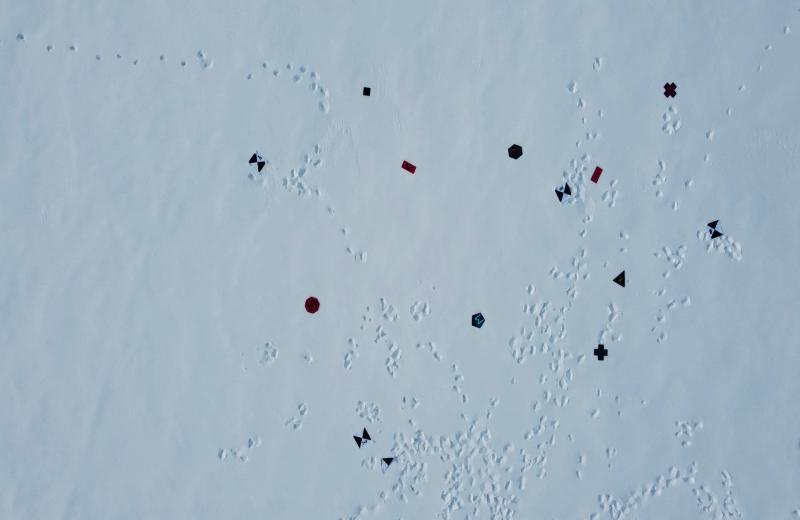Cross: (662, 81, 678, 98), (594, 343, 608, 362)
Hexagon: (508, 142, 524, 161)
Octagon: (304, 296, 321, 316)
Pentagon: (470, 311, 486, 329)
Rectangle: (590, 166, 605, 185), (400, 158, 416, 174)
Square: (362, 87, 372, 98)
Triangle: (612, 270, 628, 289)
